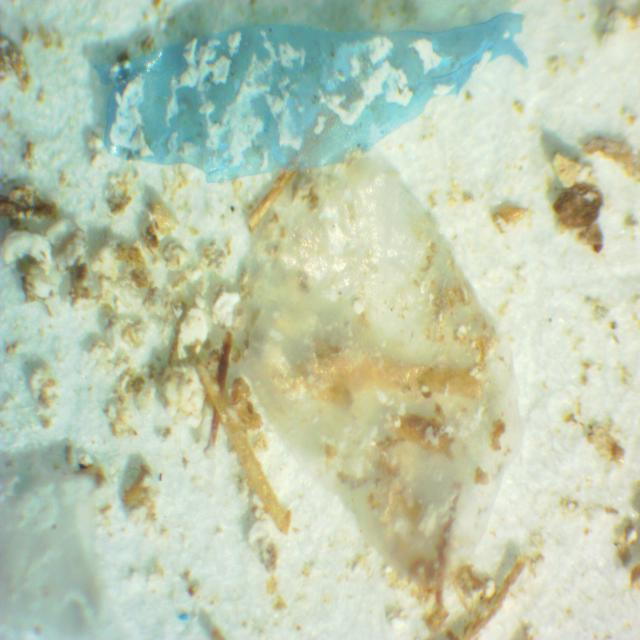microplastic: (242, 148, 523, 593), (96, 16, 523, 181)
